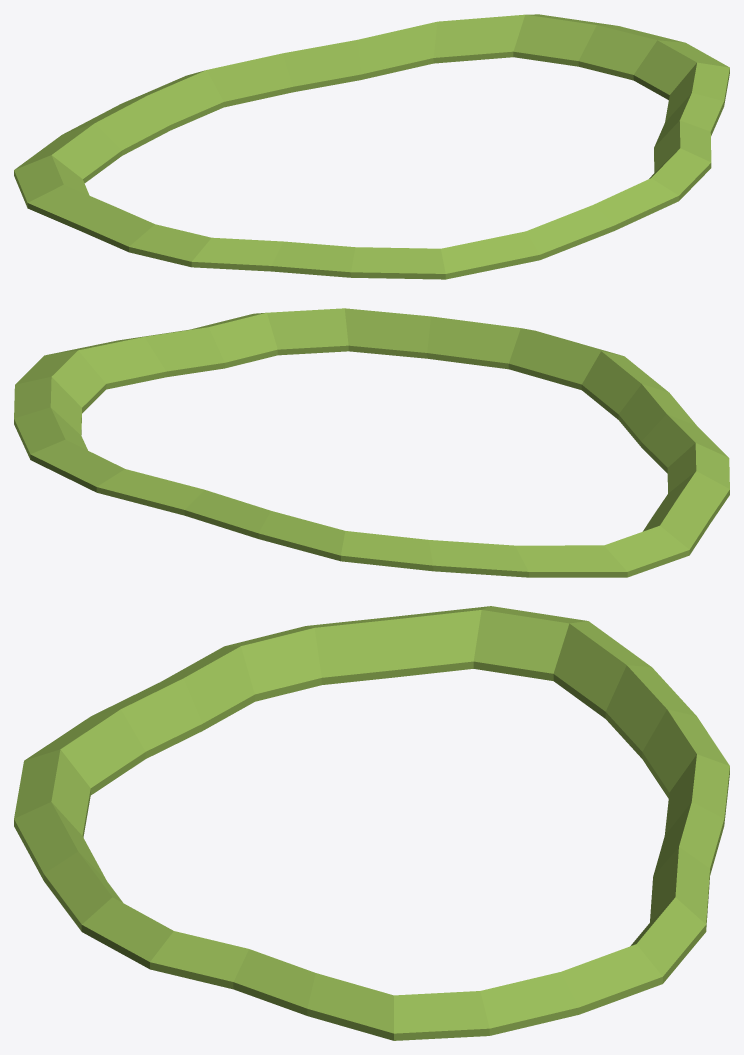
3 renders of one model, top to bottom at view 1: azimuth 30°, elevation 25°; view 2: azimuth 150°, elevation 25°; view 3: azimuth 270°, elevation 25°, orthographic. The views are drawn at different scales.
Visible parts, largest first — view 1: 瀑底潭_折纸岸环.001; view 2: 瀑底潭_折纸岸环.001; view 3: 瀑底潭_折纸岸环.001.
Part boxes in pixels (left/top/right/bottom): 瀑底潭_折纸岸环.001: left=14, top=14, right=729, bottom=279; 瀑底潭_折纸岸环.001: left=14, top=308, right=729, bottom=577; 瀑底潭_折纸岸环.001: left=14, top=606, right=729, bottom=1040.
Bounding box in the file's own units: 1.88 × 0.085 × 1.33.
